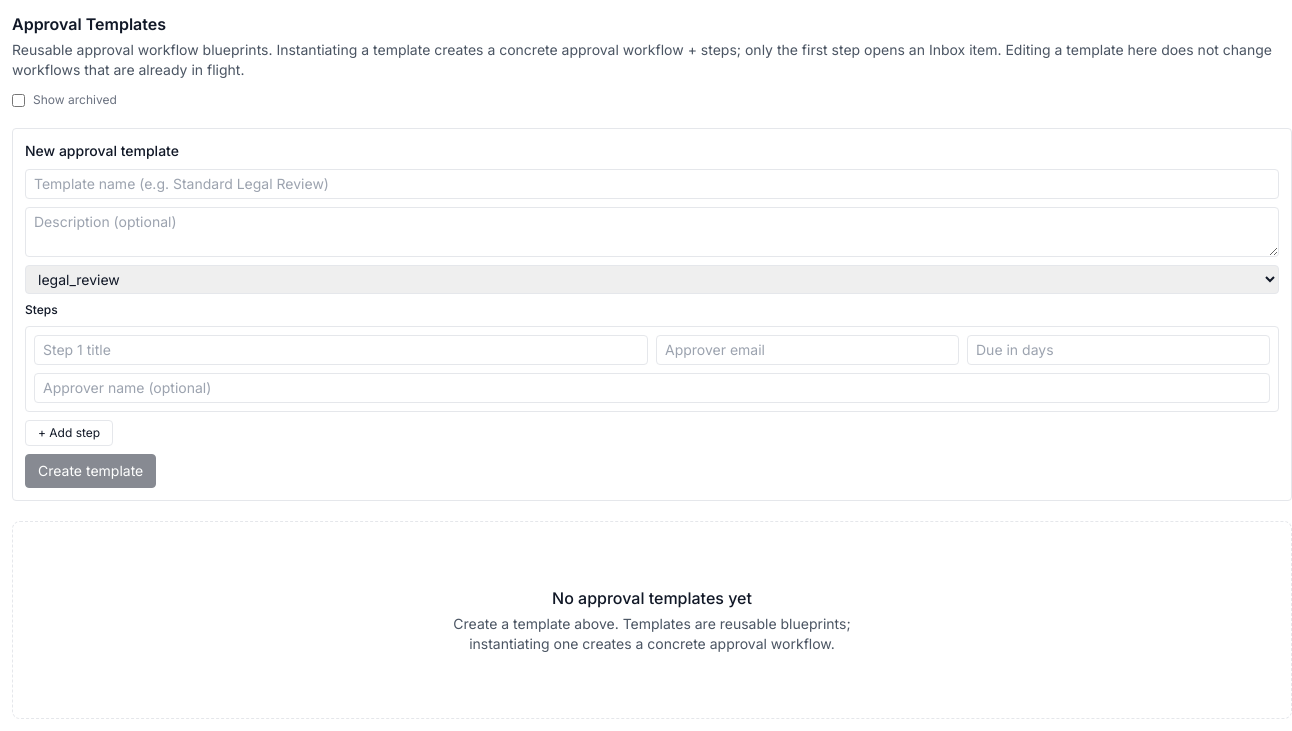
Scenario: ApprovalWorkflowTemplatesPage › creates a template with steps
Expected: the heading "No approval templates yet" is shown, [552, 586, 752, 610]
Type "New Template" into the field with test id "approval-templates-name".
click(652, 184); type("New Template")  # box [25, 169, 1279, 199]
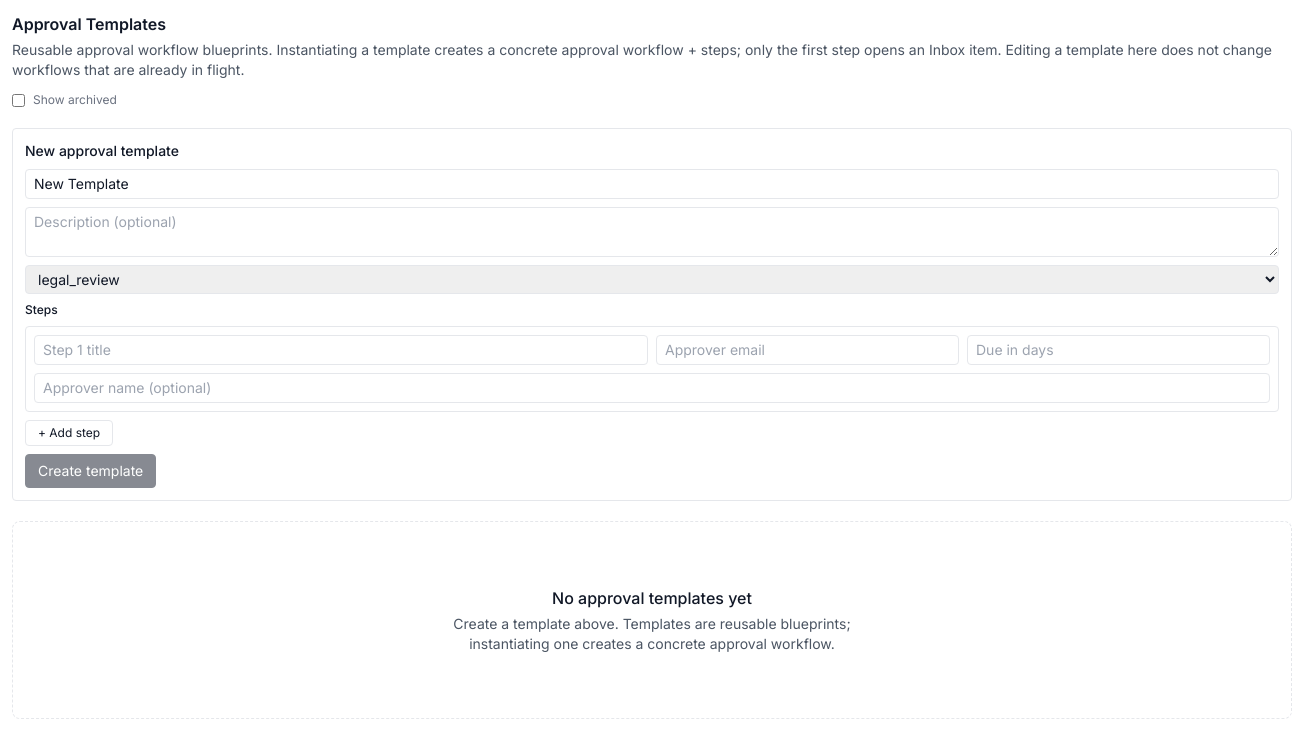
Type "Legal review" into the field with placeholder "Step 1 title".
click(341, 350); type("Legal review")  # box [34, 335, 648, 365]
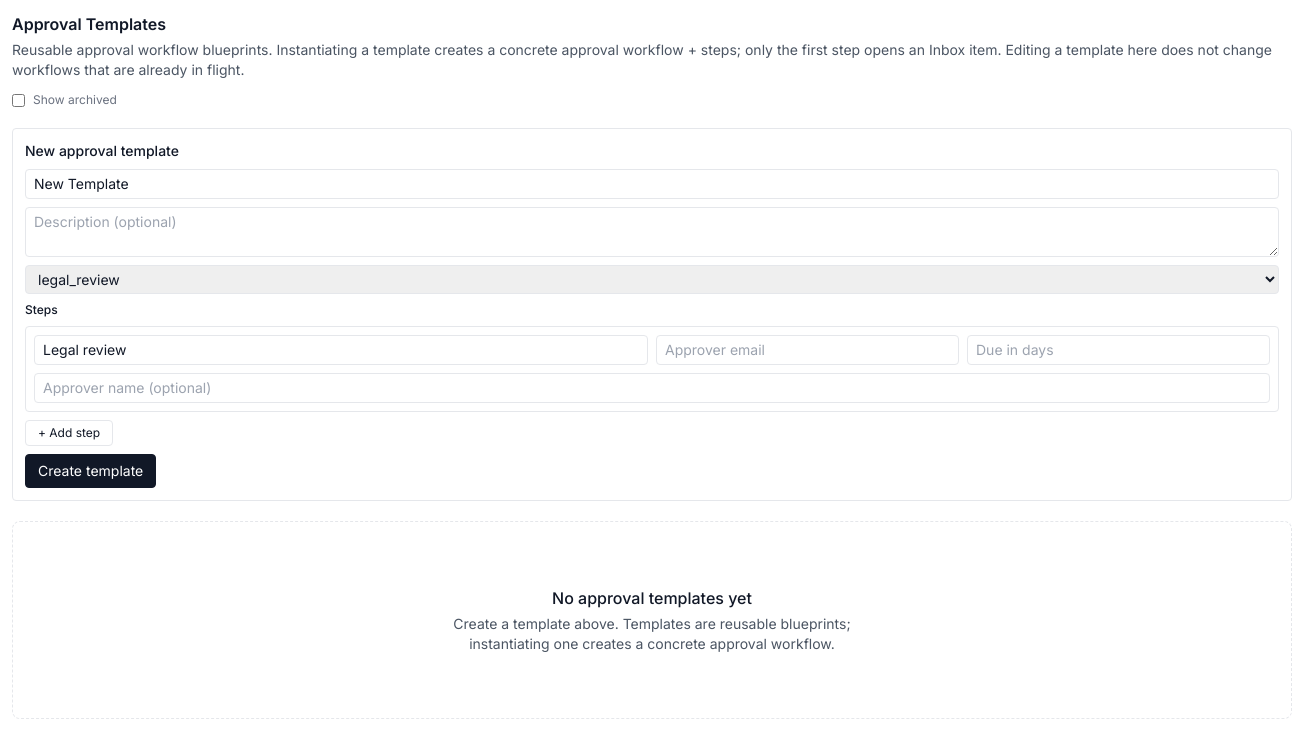
Click the button with test id "approval-templates-create-submit".
click(91, 471)  # box [25, 454, 156, 488]
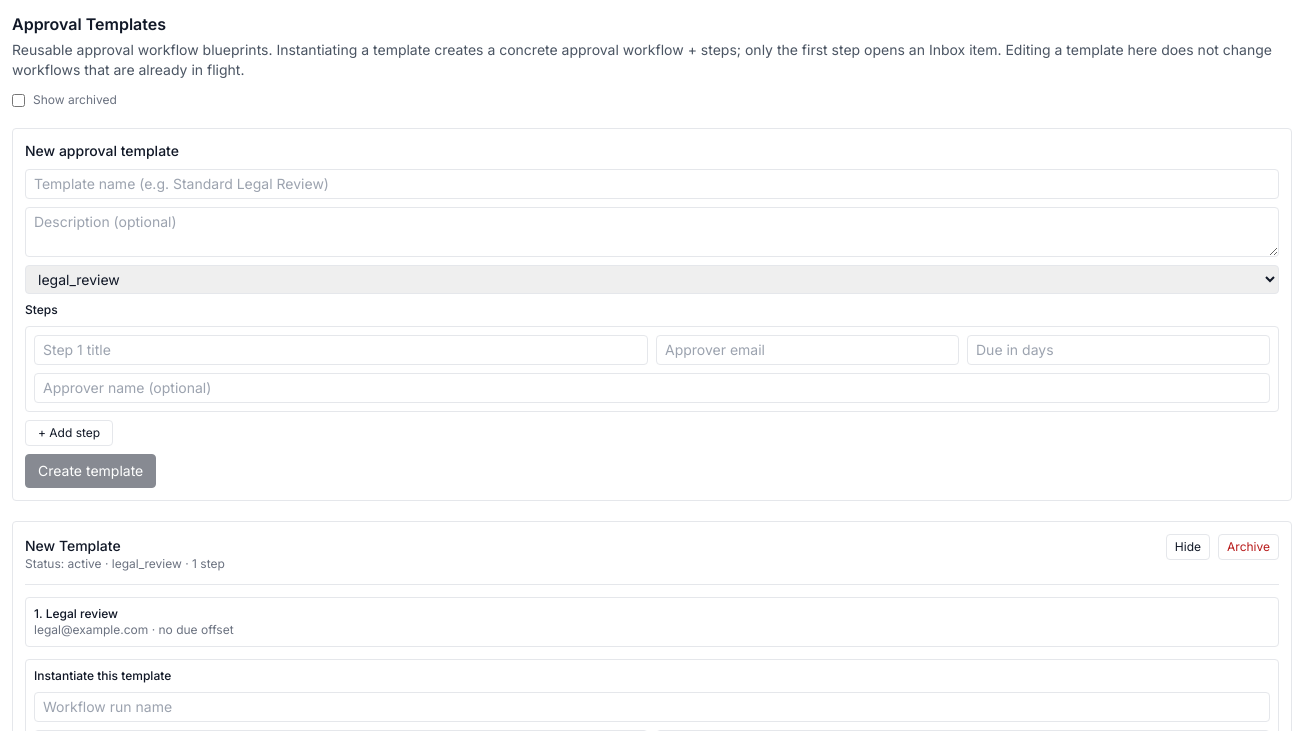
Result: the text "New Template" is shown at [25, 537, 121, 554]
